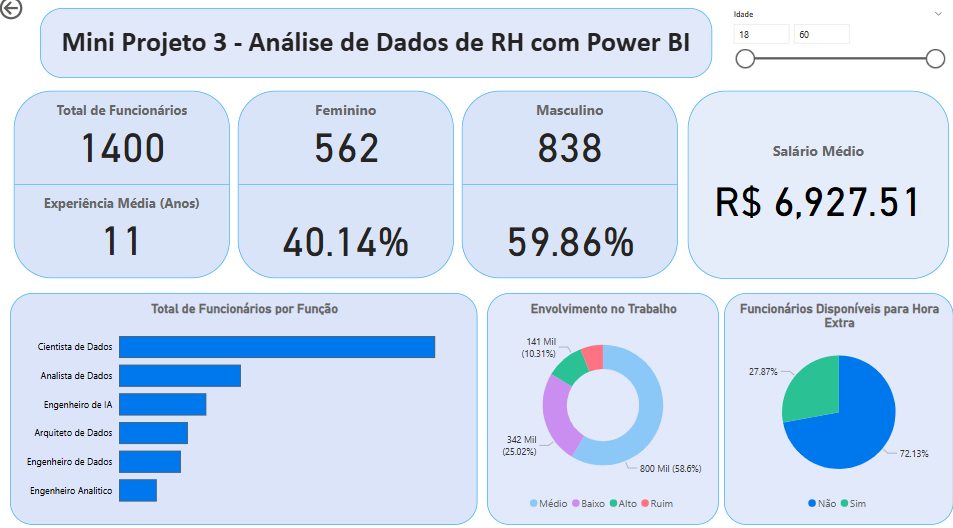

Layout of this report page (visuals, bound fields, positions):
{"tool":"powerbi","page":{"name":"Página 1","canvas":[1280,720],"ordinal":0},"visuals":[{"type":"actionButton","box":[0,0,100,40],"z":0},{"type":"cardVisual","fields":{"Data":["Medidas.MediaSalario"]},"box":[914.3,125.5,358,260.3],"z":1000},{"type":"barChart","title":"Total de Funcionários por Função","fields":{"Y":["Medidas.TotalFuncionarios"],"Category":["DatasetRH.Funcao"]},"box":[18.6,398.3,621.4,308.4],"z":2000},{"type":"pieChart","title":"Funcionários Disponíveis para Hora Extra","fields":{"Category":["DatasetRH.Disponivel_Hora_Extra"],"Y":["Sum(DatasetRH.Id_Funcionario)"]},"box":[967,398.3,305.3,308.4],"z":3000},{"type":"donutChart","title":"Envolvimento no Trabalho","fields":{"Category":["DatasetRH.Indice_Envolvimento_Trabalho"],"Y":["Sum(DatasetRH.Id_Funcionario)"]},"box":[652.4,398.3,308.4,308.4],"z":4000},{"type":"slicer","fields":{"Values":["DatasetRH.Idade"]},"box":[967,17,302.2,108.5],"z":5000},{"type":"textbox","box":[58.9,20.1,892.6,93],"z":6000},{"type":"cardVisual","fields":{"Data":["Medidas (2).TotalFeminino","Medidas (2).% Feminino"]},"box":[316.1,125.5,297.5,260.3],"z":7000},{"type":"cardVisual","fields":{"Data":["Medidas (2).TotalMasculino","Medidas.% Masculino"]},"box":[613.7,125.5,297.5,260.3],"z":8000},{"type":"cardVisual","fields":{"Data":["Medidas.TotalFuncionarios","Avg(DatasetRH.Anos_Experiencia)"]},"box":[18.6,125.5,297.5,260.3],"z":9000}]}

Visuals, with their boxes in screenshot pixels (x1, y1, x2, y2), scaled from the page's 1280x720 canvas onto the 953x528 screenshot:
actionButton: locate(0, 0, 74, 29)
cardVisual - Medidas.MediaSalario: locate(681, 92, 947, 283)
"Total de Funcionários por Função" barChart: locate(14, 292, 476, 518)
"Funcionários Disponíveis para Hora Extra" pieChart: locate(720, 292, 947, 518)
"Envolvimento no Trabalho" donutChart: locate(486, 292, 715, 518)
slicer - DatasetRH.Idade: locate(720, 12, 945, 92)
textbox: locate(44, 15, 708, 83)
cardVisual - Medidas (2).TotalFeminino x Medidas (2).% Feminino: locate(235, 92, 457, 283)
cardVisual - Medidas (2).TotalMasculino x Medidas.% Masculino: locate(457, 92, 678, 283)
cardVisual - Medidas.TotalFuncionarios x Avg(DatasetRH.Anos_Experiencia): locate(14, 92, 235, 283)
